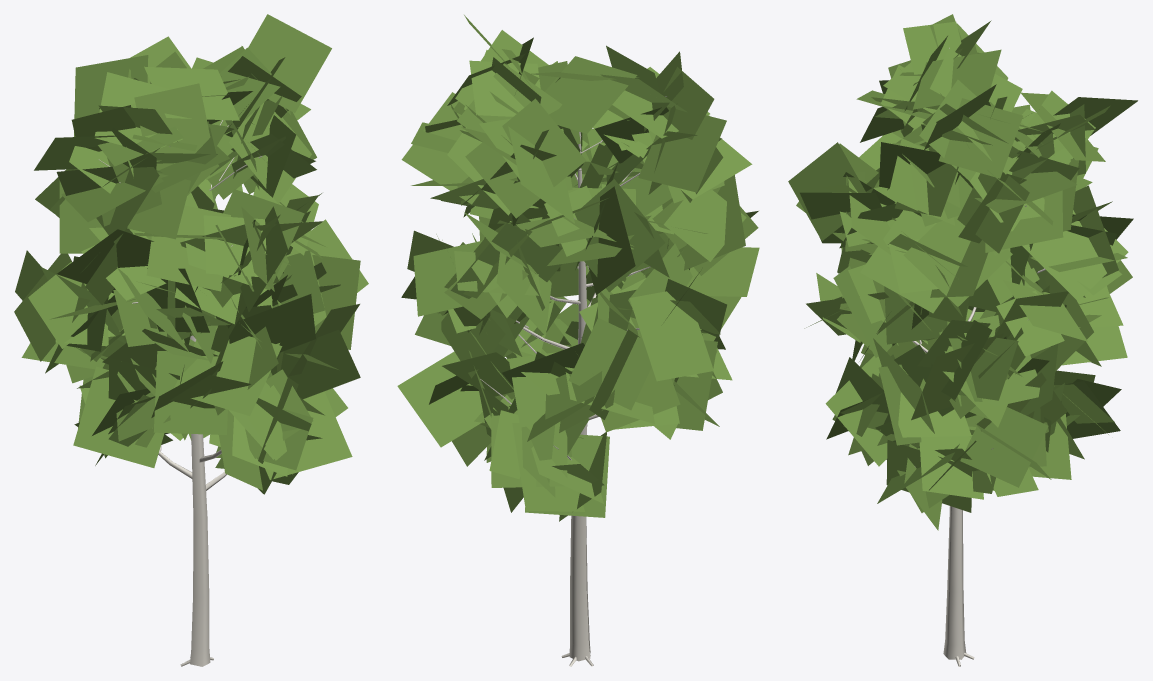
The model's file is birch-1-lod2.glb.
3 views of the same model, side by side, from view 1: azimuth 30°, elevation 25°; view 2: azimuth 150°, elevation 25°; view 3: azimuth 270°, elevation 25° (orthographic). The views are drawn at different scales.
Parts seen in each view (by area): view 1: birch-1-lod2-foliage, birch-1-lod2-bark; view 2: birch-1-lod2-foliage, birch-1-lod2-bark; view 3: birch-1-lod2-foliage, birch-1-lod2-bark.
Boxes of the visible parts, <box> form: birch-1-lod2-foliage: <box>14,14,368,494</box>; birch-1-lod2-bark: <box>98,120,262,666</box>; birch-1-lod2-foliage: <box>397,15,759,521</box>; birch-1-lod2-bark: <box>480,96,666,666</box>; birch-1-lod2-foliage: <box>788,14,1137,530</box>; birch-1-lod2-bark: <box>912,48,1055,666</box>.
Bounding box in the file's own units: 12.9 × 23.21 × 11.92.
